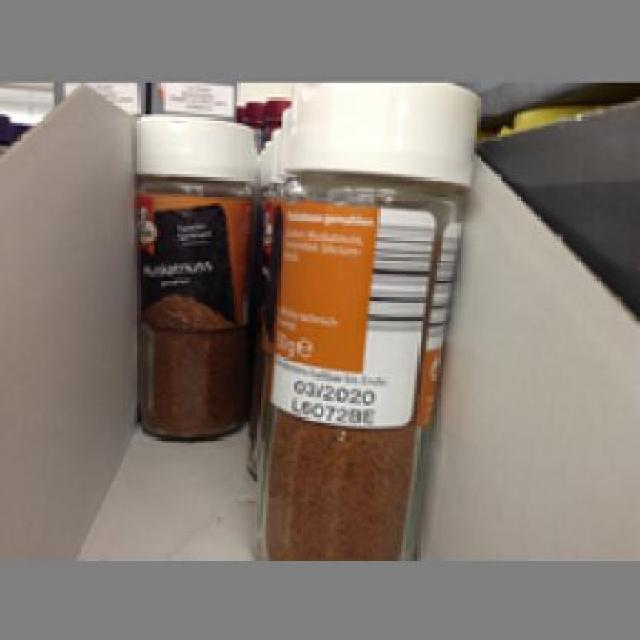Spices: (252, 80, 478, 557), (132, 111, 258, 440)
